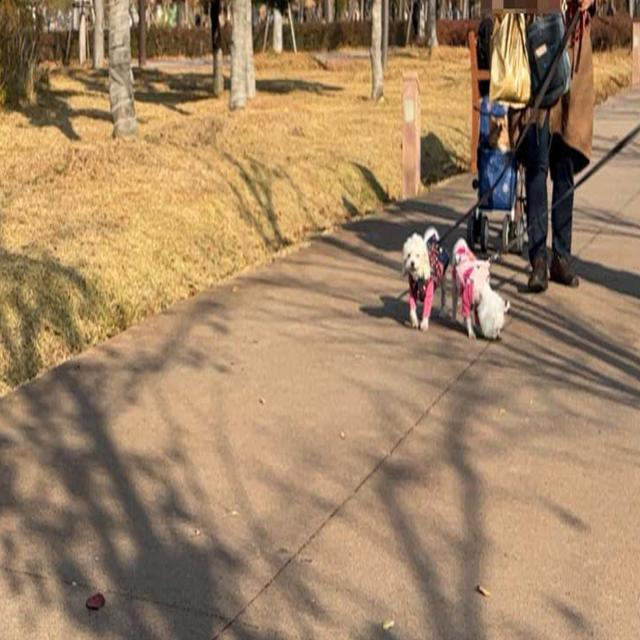Dog: (451, 237, 506, 341), (486, 112, 511, 153)
Leashed_Dog: (401, 105, 534, 332)
